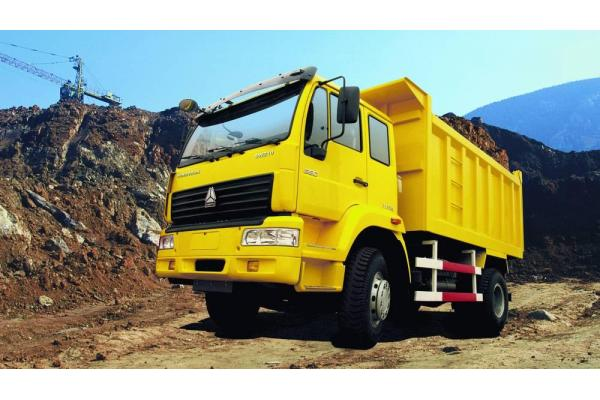truck: (171, 84, 522, 314)
